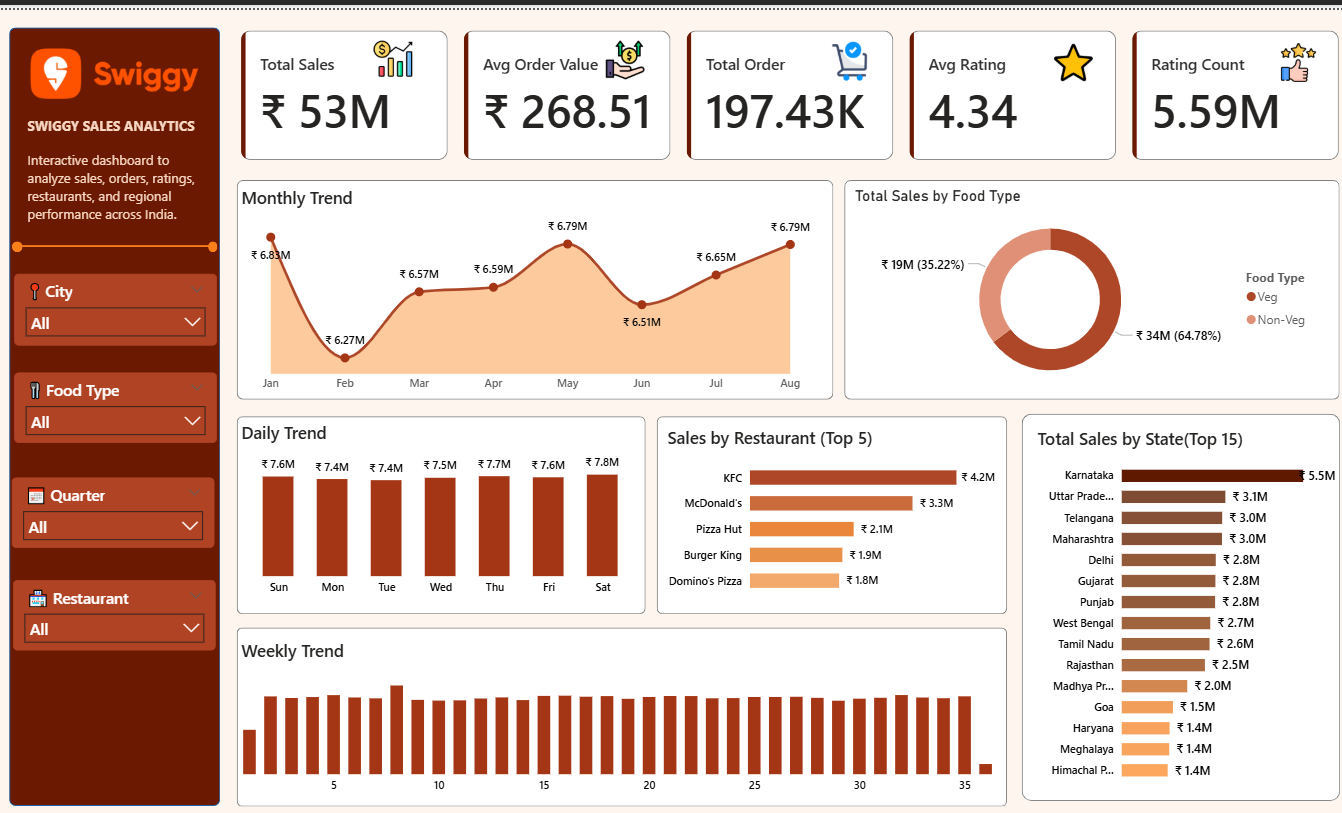

This screenshot's page, from the dashboard's own definition file:
{"tool":"powerbi","page":{"name":"Page 1","canvas":[1500,900],"ordinal":0},"visuals":[{"type":"shape","box":[12.3,19.9,234.7,866.6],"z":0},{"type":"cardVisual","fields":{"Data":["fact_orders.Total Sales","fact_orders.Average Order Value","fact_orders.Total Order","Avg(fact_orders.rating)","Sum(fact_orders.rating_count)"]},"box":[265.3,17.7,1235,154.4],"z":1000},{"type":"image","box":[392.4,27.3,94.9,53.1],"z":2000},{"type":"image","box":[664.1,28.9,69.1,53.1],"z":3000},{"type":"image","box":[902.1,30.6,93.3,53.1],"z":4000},{"type":"image","box":[1151.4,32.2,93.3,53.1],"z":5000},{"type":"image","box":[1400.6,32.2,93.3,53.1],"z":6000},{"type":"image","box":[16.9,18.4,225.5,105.8],"z":7000},{"type":"shape","box":[265.3,189.8,664.1,244.4],"z":8000},{"type":"lineChart","title":"Monthly Trend","fields":{"Category":["dim_date.Month"],"Y":["fact_orders.Total Sales"]},"box":[265.3,196.2,654.5,238],"z":9000},{"type":"shape","box":[942.3,189.8,551.6,244.4],"z":10000},{"type":"donutChart","fields":{"Category":["dim_dish.Food Type"],"Y":["fact_orders.Total Sales"]},"box":[948.8,196.2,529.1,233.2],"z":11000},{"type":"shape","box":[265.3,451.9,455.1,220.3],"z":12000},{"type":"columnChart","title":"Daily Trend","fields":{"Category":["dim_date.Day"],"Y":["fact_orders.Total Sales"]},"box":[265.3,458.3,455.1,202.6],"z":13000},{"type":"shape","box":[733.3,451.9,390,220.3],"z":14000},{"type":"barChart","title":"Sales by Restaurant (Top 5)","fields":{"Category":["dim_restaurant.restaurant_name"],"Y":["fact_orders.Total Sales"]},"box":[739.7,463.1,374.7,197.8],"z":15000},{"type":"shape","box":[1139.6,449.4,354.3,431],"z":16000},{"type":"barChart","title":"Total Sales by State(Top 15)","fields":{"Category":["dim_location.state"],"Y":["fact_orders.Total Sales"]},"box":[1151.8,464.7,342,403.4],"z":17000},{"type":"shape","box":[265.3,687.1,857.4,199.4],"z":18000},{"type":"columnChart","title":" Weekly Trend","fields":{"Category":["dim_date.Week Number"],"Y":["fact_orders.Total Sales"]},"box":[265.3,699.4,848.2,181],"z":19000},{"type":"slicer","fields":{"Values":["dim_location.city"]},"box":[18.4,292.9,225.5,79.8],"z":20000},{"type":"slicer","fields":{"Values":["dim_dish.Food Type"]},"box":[18.4,403.4,225.5,78.2],"z":21000},{"type":"slicer","fields":{"Values":["dim_date.Quarter"]},"box":[15.3,519.9,225.5,78.2],"z":22000},{"type":"slicer","fields":{"Values":["dim_restaurant.restaurant_name"]},"box":[16.9,635,225.5,78.2],"z":23000},{"type":"textbox","box":[27.6,113.5,216.3,168.7],"z":24000},{"type":"shape","box":[24.5,257.7,211.7,10.7],"z":25000},{"type":"shape","box":[233.1,257.7,10.7,12.3],"z":26000},{"type":"shape","box":[15.3,257.7,12.3,12.3],"z":27000}]}

Visuals, with their boxes in screenshot pixels (x1, y1, x2, y2), scaled from the page's 1500x900 canvas onto the 1342x813 screenshot:
shape: {"left": 11, "top": 18, "right": 221, "bottom": 801}
cardVisual - fact_orders.Total Sales x fact_orders.Average Order Value: {"left": 237, "top": 16, "right": 1341, "bottom": 155}
image: {"left": 351, "top": 25, "right": 436, "bottom": 73}
image: {"left": 594, "top": 26, "right": 656, "bottom": 74}
image: {"left": 807, "top": 28, "right": 891, "bottom": 76}
image: {"left": 1030, "top": 29, "right": 1114, "bottom": 77}
image: {"left": 1253, "top": 29, "right": 1337, "bottom": 77}
image: {"left": 15, "top": 17, "right": 217, "bottom": 112}
shape: {"left": 237, "top": 171, "right": 832, "bottom": 392}
"Monthly Trend" lineChart: {"left": 237, "top": 177, "right": 823, "bottom": 392}
shape: {"left": 843, "top": 171, "right": 1337, "bottom": 392}
donutChart - dim_dish.Food Type x fact_orders.Total Sales: {"left": 849, "top": 177, "right": 1322, "bottom": 388}
shape: {"left": 237, "top": 408, "right": 645, "bottom": 607}
"Daily Trend" columnChart: {"left": 237, "top": 414, "right": 645, "bottom": 597}
shape: {"left": 656, "top": 408, "right": 1005, "bottom": 607}
"Sales by Restaurant (Top 5)" barChart: {"left": 662, "top": 418, "right": 997, "bottom": 597}
shape: {"left": 1020, "top": 406, "right": 1337, "bottom": 795}
"Total Sales by State(Top 15)" barChart: {"left": 1030, "top": 420, "right": 1336, "bottom": 784}
shape: {"left": 237, "top": 621, "right": 1004, "bottom": 801}
" Weekly Trend" columnChart: {"left": 237, "top": 632, "right": 996, "bottom": 795}
slicer - dim_location.city: {"left": 16, "top": 265, "right": 218, "bottom": 337}
slicer - dim_dish.Food Type: {"left": 16, "top": 364, "right": 218, "bottom": 435}
slicer - dim_date.Quarter: {"left": 14, "top": 470, "right": 215, "bottom": 540}
slicer - dim_restaurant.restaurant_name: {"left": 15, "top": 574, "right": 217, "bottom": 644}
textbox: {"left": 25, "top": 103, "right": 218, "bottom": 255}
shape: {"left": 22, "top": 233, "right": 211, "bottom": 242}
shape: {"left": 209, "top": 233, "right": 218, "bottom": 244}
shape: {"left": 14, "top": 233, "right": 25, "bottom": 244}
